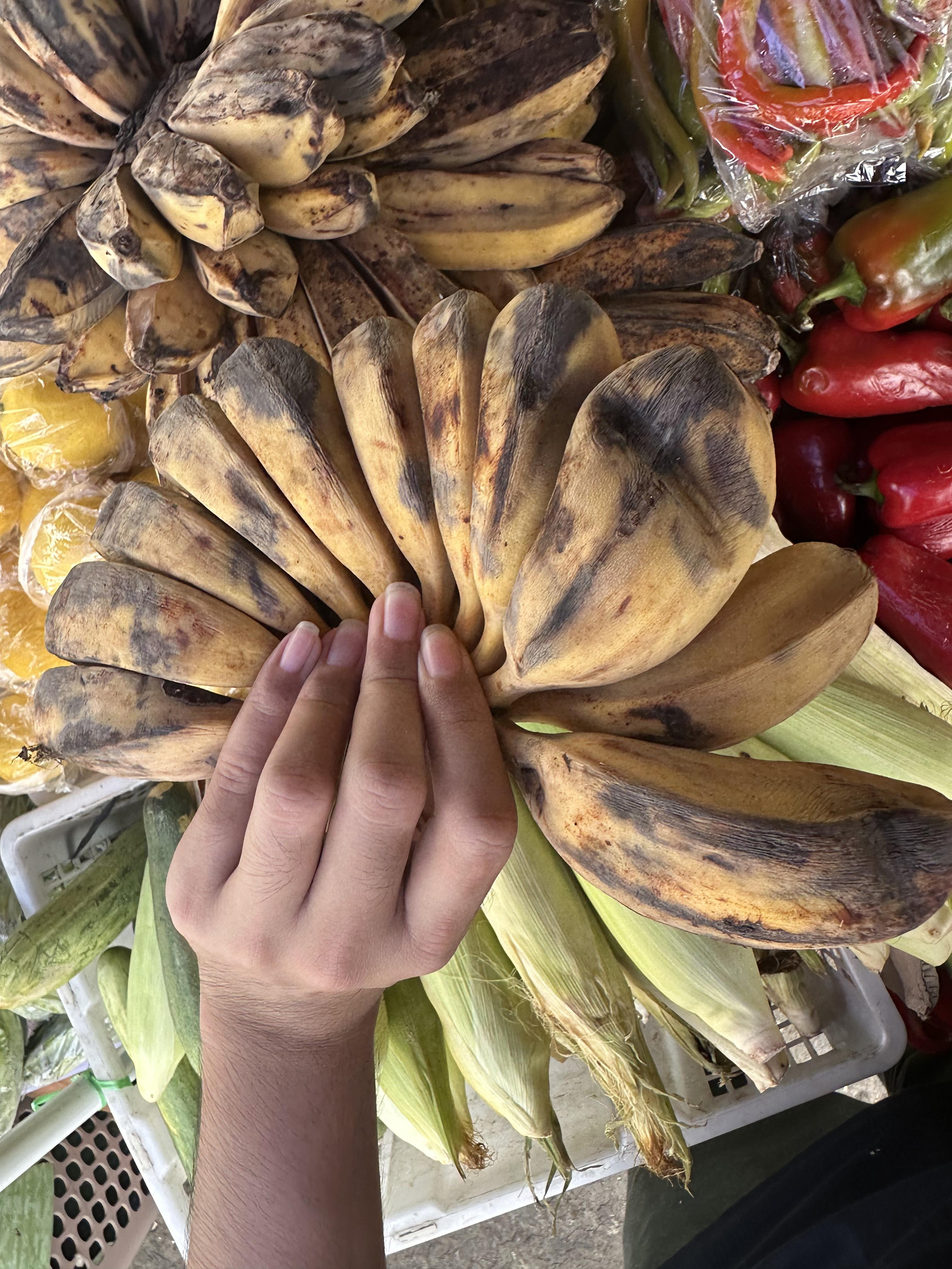ripe: (28, 283, 952, 948), (0, 0, 435, 403), (232, 0, 620, 375), (533, 215, 779, 385), (0, 0, 233, 151)
